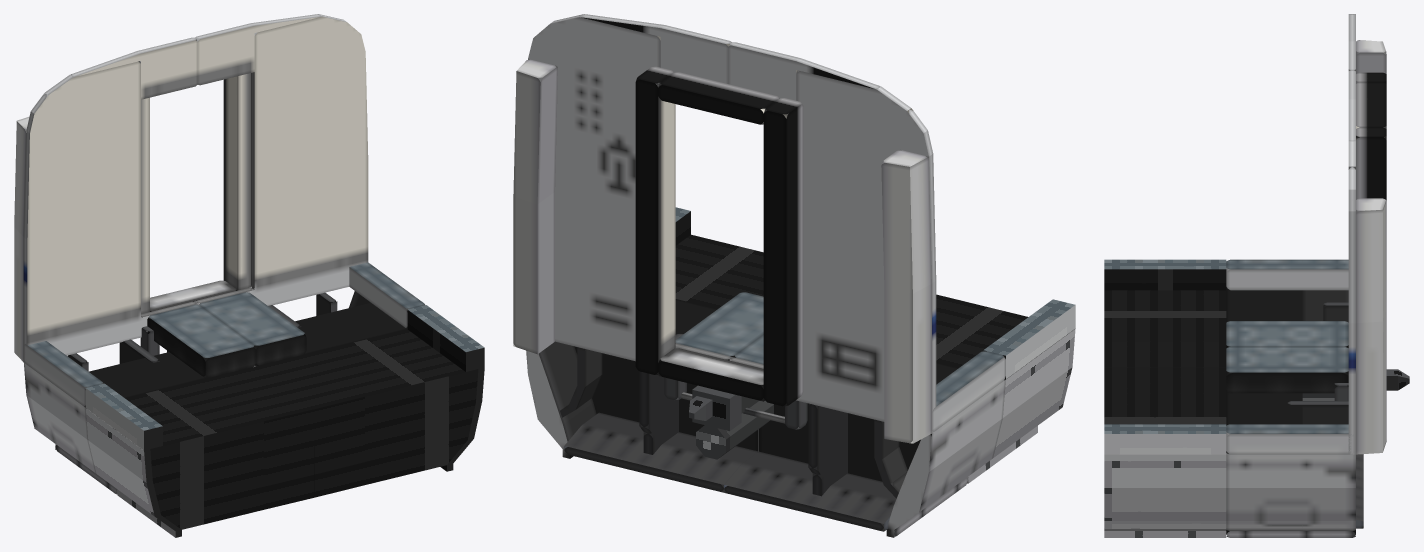
File: endface_original.obj
3 views of the same model, side by side, from view 1: azimuth 30°, elevation 25°; view 2: azimuth 150°, elevation 25°; view 3: azimuth 270°, elevation 25° (orthographic). The views are drawn at different scales.
Parts seen in each view (by area): view 1: 端面1, 裙板-仪器舱靠近端面R, 裙板-仪器舱靠近端面L, 裙板-仪器舱R, 地板-中间, 内风挡-侧, 端面2, 裙板-仪器舱L, 外风挡, 内风挡-下, 防雪风挡骨架, 防雪风挡骨架2; view 2: 端面1, 外风挡, 内风挡-侧, 裙板-仪器舱R, 防雪风挡, 裙板-仪器舱靠近端面R, 裙板-仪器舱L, 端面2, 裙板-仪器舱靠近端面L, 防雪风挡骨架, 地板-中间, 内风挡-上 (+5 smaller); view 3: 裙板-仪器舱靠近端面L, 裙板-仪器舱L, 裙板-仪器舱靠近端面R, 外风挡, 地板-中间, 裙板-仪器舱R, 内风挡-侧, 端面1, 内风挡-上, 防雪风挡骨架, 端面2, 防雪风挡 (+2 smaller).
Part boxes in pixels (x1,y1,x2,y2): 端面1: (23, 14, 368, 363); 裙板-仪器舱靠近端面R: (85, 366, 314, 537); 裙板-仪器舱靠近端面L: (256, 305, 484, 497); 裙板-仪器舱R: (23, 341, 255, 494); 地板-中间: (147, 292, 306, 377); 内风挡-侧: (141, 73, 254, 317); 端面2: (71, 14, 320, 99); 裙板-仪器舱L: (253, 262, 424, 367); 外风挡: (14, 117, 29, 361); 内风挡-下: (150, 280, 236, 311); 防雪风挡骨架: (119, 305, 301, 363); 防雪风挡骨架2: (67, 292, 337, 371); 端面1: (528, 14, 936, 433); 外风挡: (513, 59, 931, 443); 内风挡-侧: (635, 66, 803, 406); 裙板-仪器舱R: (759, 351, 1005, 537); 防雪风挡: (564, 412, 896, 531); 裙板-仪器舱靠近端面R: (936, 294, 1075, 483); 裙板-仪器舱L: (526, 299, 758, 458); 端面2: (581, 14, 879, 114); 裙板-仪器舱靠近端面L: (675, 207, 763, 308); 防雪风挡骨架: (639, 333, 847, 496); 地板-中间: (675, 292, 763, 364); 内风挡-上: (658, 72, 778, 124); 裙板-仪器舱靠近端面L: (1104, 368, 1226, 537); 裙板-仪器舱L: (1226, 392, 1355, 537); 裙板-仪器舱靠近端面R: (1104, 259, 1226, 367); 外风挡: (1356, 40, 1386, 454); 地板-中间: (1226, 321, 1348, 393); 裙板-仪器舱R: (1226, 259, 1348, 322); 内风挡-侧: (1356, 72, 1386, 199); 端面1: (1348, 14, 1355, 454); 内风挡-上: (1356, 82, 1386, 138); 防雪风挡骨架: (1288, 401, 1348, 424); 端面2: (1348, 14, 1355, 141); 防雪风挡: (1356, 454, 1363, 528).
Bounding box in the file's own units: 3.38 × 3.59 × 2.5.
